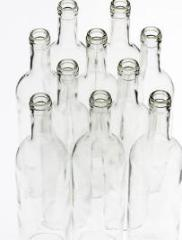glass: (14, 0, 182, 240)
